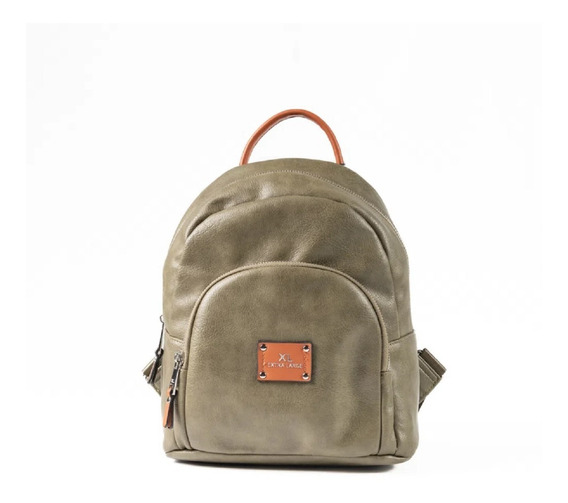cartera: (146, 106, 446, 471)
